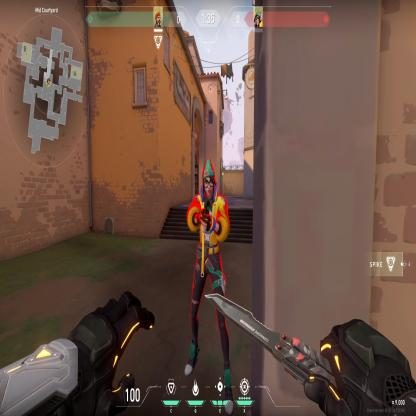enemy: (184, 154, 234, 416)
